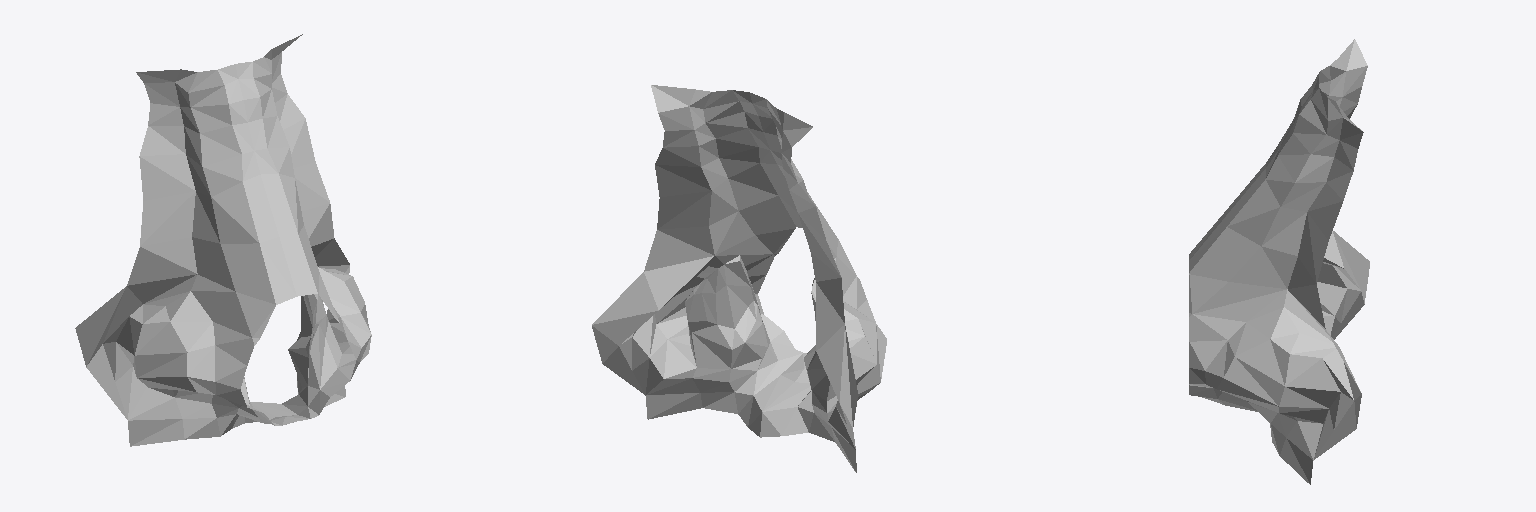
File: nose_base.obj
3 views of the same model, side by side, from view 1: azimuth 30°, elevation 25°; view 2: azimuth 150°, elevation 25°; view 3: azimuth 270°, elevation 25° (orthographic).
Visible parts, largest first — view 1: object_1; view 2: object_1; view 3: object_1.
Part boxes in pixels (x1,y1,x2,y2): object_1: (75,34,371,446); object_1: (592,85,886,472); object_1: (1189,39,1369,484).
Size of the model in its own units: 19.86 by 24.94 by 11.48.